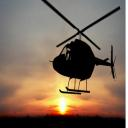helicopter: (42, 2, 121, 96)
